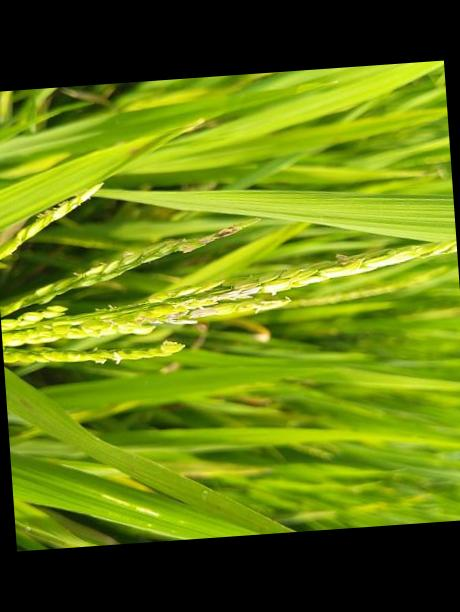Panicle Blight: (195, 218, 258, 245), (134, 307, 207, 325)
